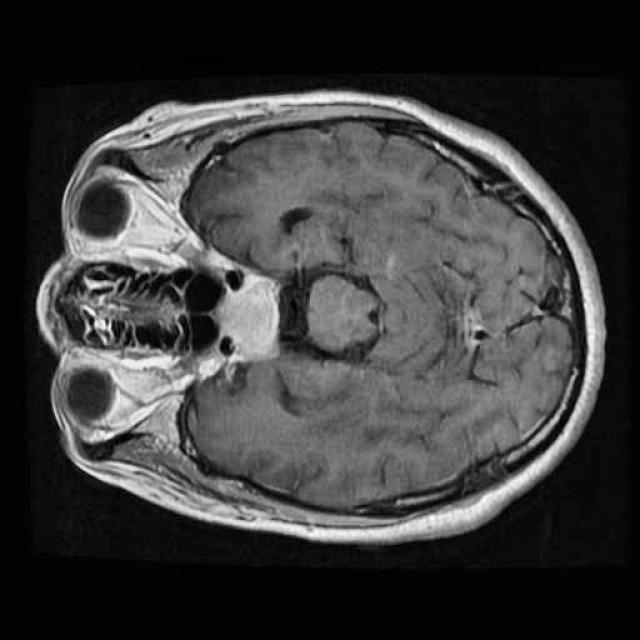Tumor: (205, 260, 295, 371)
